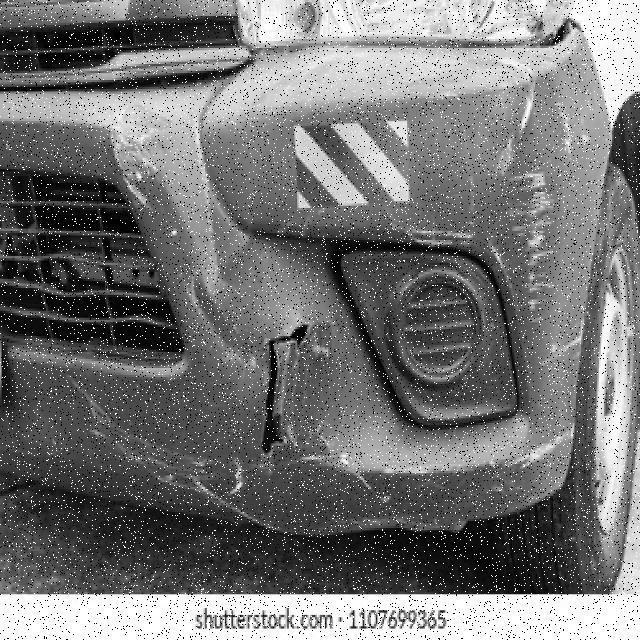front-bumper-dent: (51, 30, 607, 551)
